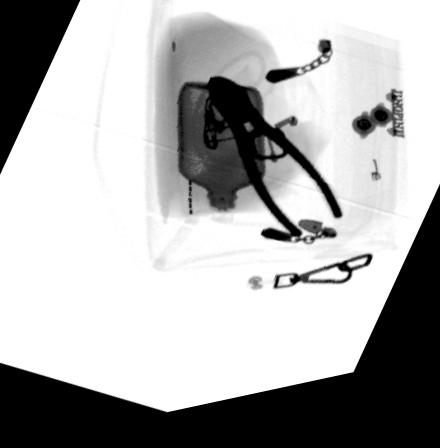Pliers: (204, 85, 343, 249)
